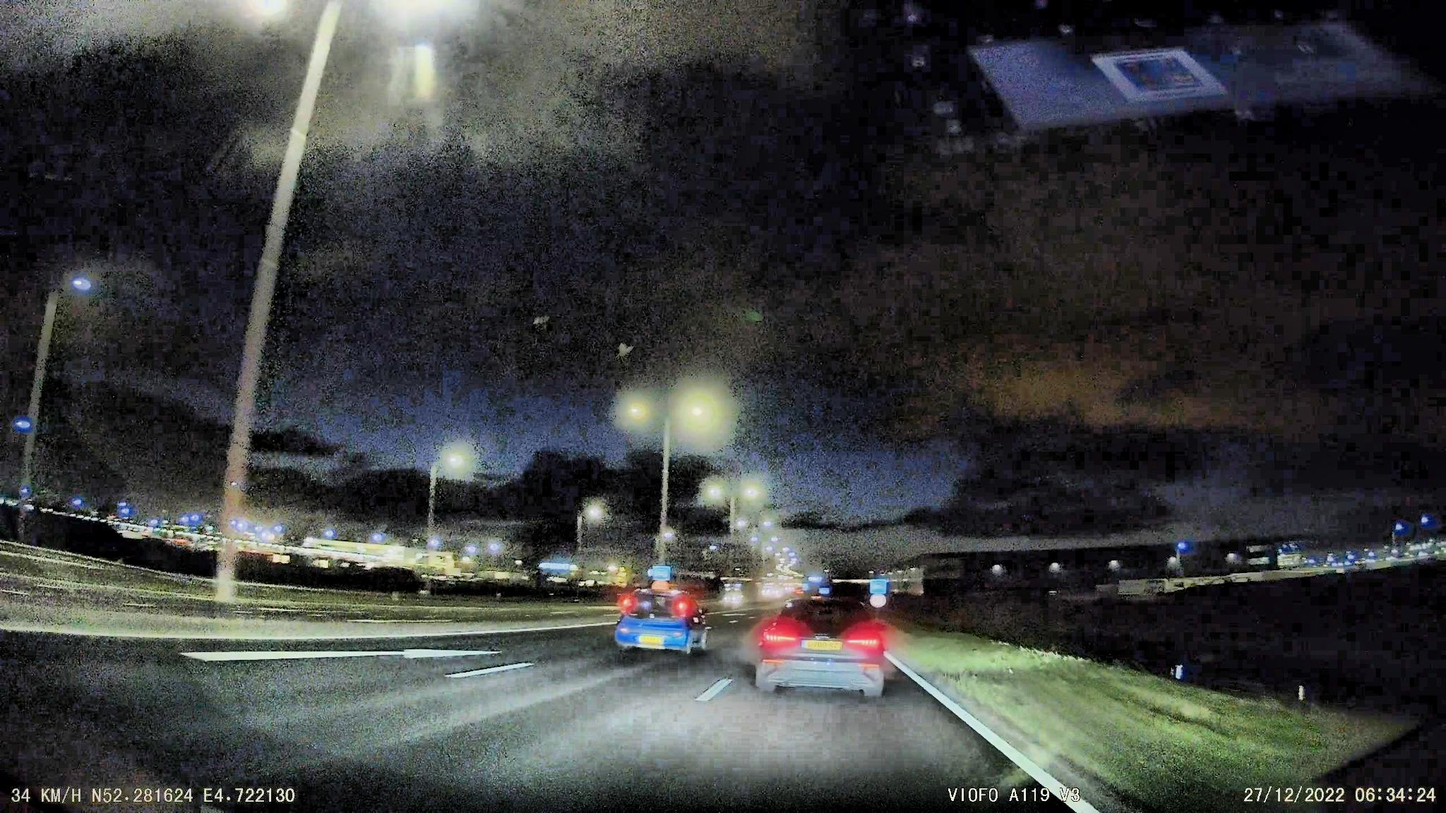Roads: (0, 620, 1073, 813)
